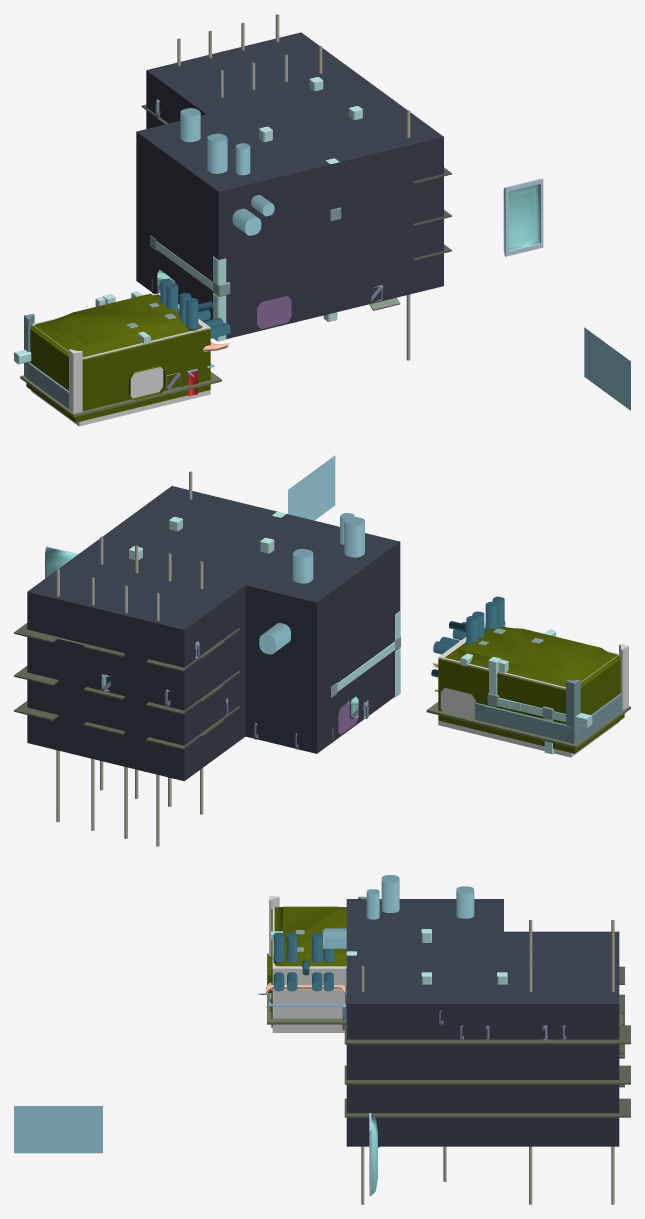
Rendered from boris upgraded.fbx.
3 renders of one model, top to bottom at view 1: azimuth 30°, elevation 25°; view 2: azimuth 150°, elevation 25°; view 3: azimuth 270°, elevation 25°, orthographic. The views are drawn at different scales.
Visible parts, largest first — view 1: Cube.004, cafe, Cube_006_4, wall_2_001, cafe.001, Cube_059_1.001, Cube.003, vloer, Cube.009, Cube_059_1.002, pijp.004, Cube_059_1.003; view 2: Cube.004, cafe, Cube.003, cafe.001, wall_2_001, Cube_059_1.003, vloer, Cube_059_1.001, Cube_006_4, Cube.009, pijp.001; view 3: Cube.004, wall_2_001, cafe.001, cafe, Cube.024, Cube.021, Cube.018, Cube_059_1.001, Cube_059_1.002, Cube_006_4, vloer, pijp.004 (+2 smaller).
Boxes of the visible parts, x1,y1,x2,y2 form: Cube.004: (136,32,443,338); cafe: (26,293,210,422); Cube_006_4: (503,178,543,256); wall_2_001: (584,327,630,410); cafe.001: (31,293,210,426); Cube_059_1.001: (207,133,261,235); Cube.003: (24,313,68,408); vloer: (20,371,221,417); Cube.009: (69,349,82,413); Cube_059_1.002: (235,143,274,216); pijp.004: (185,298,230,338); Cube_059_1.003: (180,108,200,142); Cube.004: (27,486,400,781); cafe: (438,627,624,753); Cube.003: (475,679,622,744); cafe.001: (438,623,619,757); wall_2_001: (288,455,335,520); Cube_059_1.003: (259,549,313,652); vloer: (426,702,630,748); Cube_059_1.001: (344,516,364,557); Cube_006_4: (45,546,78,578); Cube.009: (619,643,628,710); pijp.001: (433,616,478,654); Cube.004: (346,899,619,1146); wall_2_001: (14,1106,102,1153); cafe.001: (272,907,346,1032); cafe: (267,906,346,1027); Cube.024: (344,1025,630,1044); Cube.021: (344,1065,630,1084); Cube.018: (344,1098,630,1117); Cube_059_1.001: (322,875,399,948); Cube_059_1.002: (324,889,379,941); Cube_006_4: (369,1113,377,1195); vloer: (267,953,346,1024); pijp.004: (273,932,284,991).
Bounding box in the file's own units: 11967 × 5478 × 12602.
